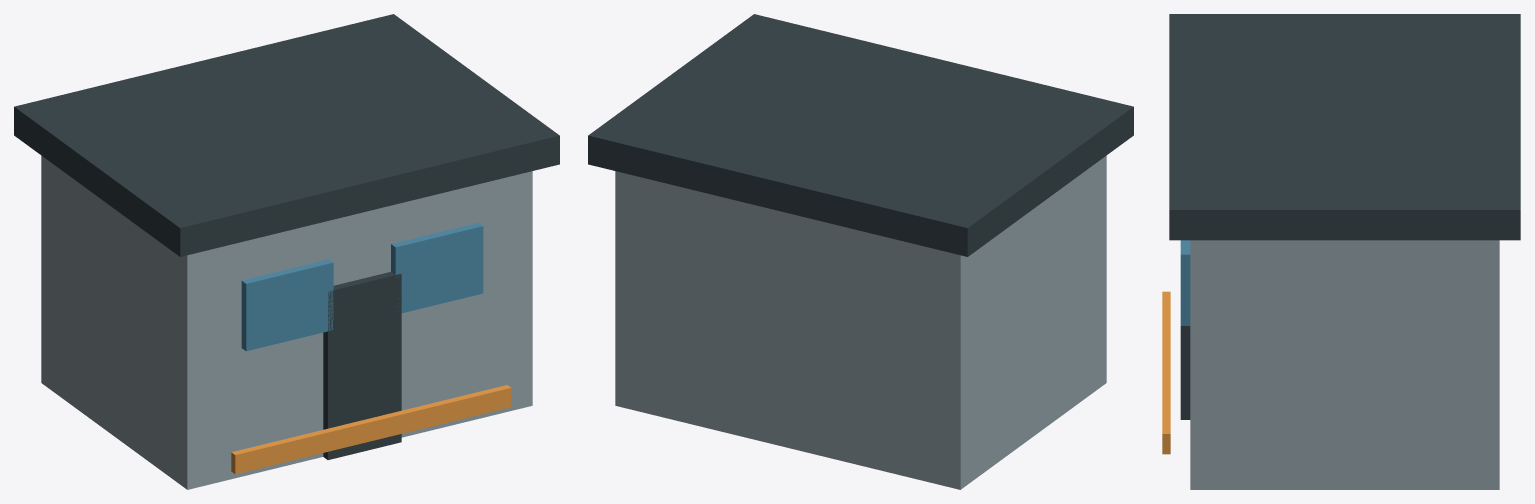
File: equipment_shed.glb
The picture shows the model from 3 angles, left to right: view 1: azimuth 30°, elevation 25°; view 2: azimuth 150°, elevation 25°; view 3: azimuth 270°, elevation 25°; orthographic projection. The views are drawn at different scales.
Parts seen in each view (by area): view 1: Equipment Shed, Equipment Shed roof, Equipment Shed door, Equipment Shed window, Equipment Shed safety stripe, Equipment Shed window 2; view 2: Equipment Shed, Equipment Shed roof; view 3: Equipment Shed roof, Equipment Shed, Equipment Shed safety stripe, Equipment Shed door, Equipment Shed window 2.
Boxes of the visible parts, bbox=[...] form: Equipment Shed: bbox=[41, 155, 532, 489]; Equipment Shed roof: bbox=[14, 14, 559, 256]; Equipment Shed door: bbox=[323, 272, 401, 459]; Equipment Shed window: bbox=[241, 259, 333, 351]; Equipment Shed safety stripe: bbox=[231, 385, 511, 474]; Equipment Shed window 2: bbox=[391, 222, 483, 313]; Equipment Shed: bbox=[615, 155, 1106, 489]; Equipment Shed roof: bbox=[588, 14, 1133, 256]; Equipment Shed roof: bbox=[1169, 14, 1520, 240]; Equipment Shed: bbox=[1190, 240, 1499, 489]; Equipment Shed safety stripe: bbox=[1162, 291, 1170, 454]; Equipment Shed door: bbox=[1180, 326, 1190, 419]; Equipment Shed window 2: bbox=[1180, 240, 1190, 325].
Bounding box in the file's own units: 3.3 × 2.27 × 2.55.
